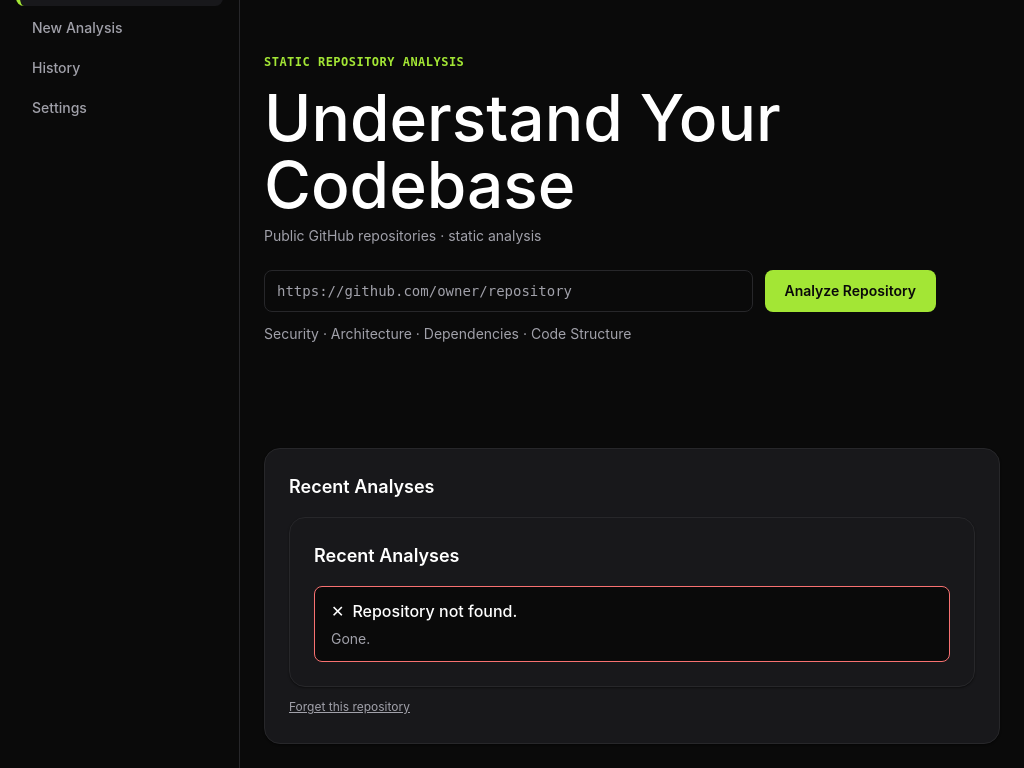
Test: Dashboard recent analyses › shows an error with recovery for an unknown stored repository
(page scrolled)
Expected: the message shows "Repository not found.", [352,602,517,622]
What coordinates should you click on to do the following:
click the button "Forget this repository"
I would click on:
 (350, 707)
Its box is [289,699,410,715].
(page scrolled)
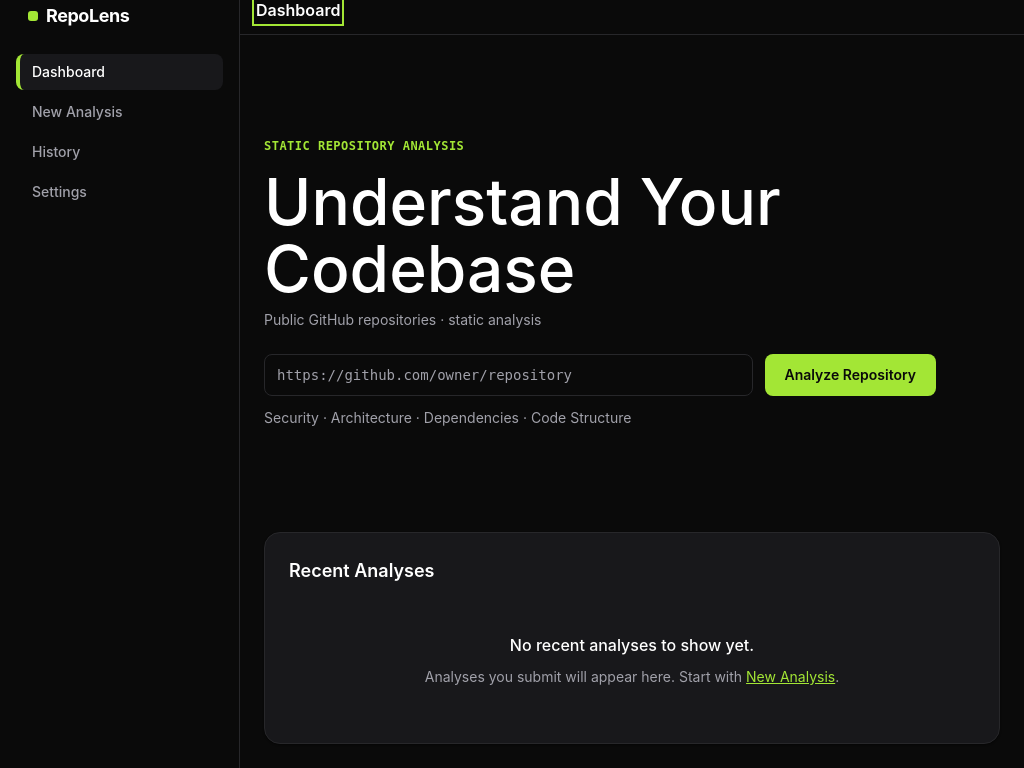
Now the text "No recent analyses to show yet." is shown, box [510,636,754,656]
